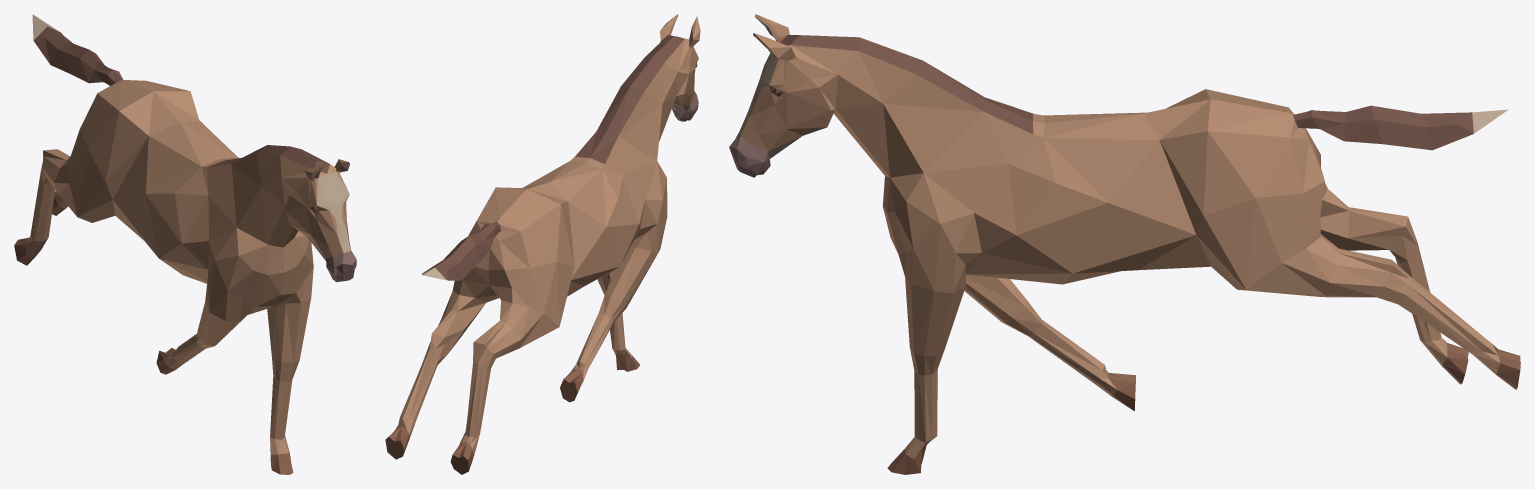
Rendered from Horse.glb.
The picture shows the model from 3 angles, left to right: view 1: azimuth 30°, elevation 25°; view 2: azimuth 150°, elevation 25°; view 3: azimuth 270°, elevation 25°; orthographic projection. The views are drawn at different scales.
Visible parts, largest first — view 1: mesh_0; view 2: mesh_0; view 3: mesh_0.
Boxes of the visible parts, <box> form: mesh_0: <box>14,14,356,474</box>; mesh_0: <box>385,14,700,474</box>; mesh_0: <box>729,14,1520,474</box>.
Bounding box in the file's own units: 63.47 × 188 × 303.
